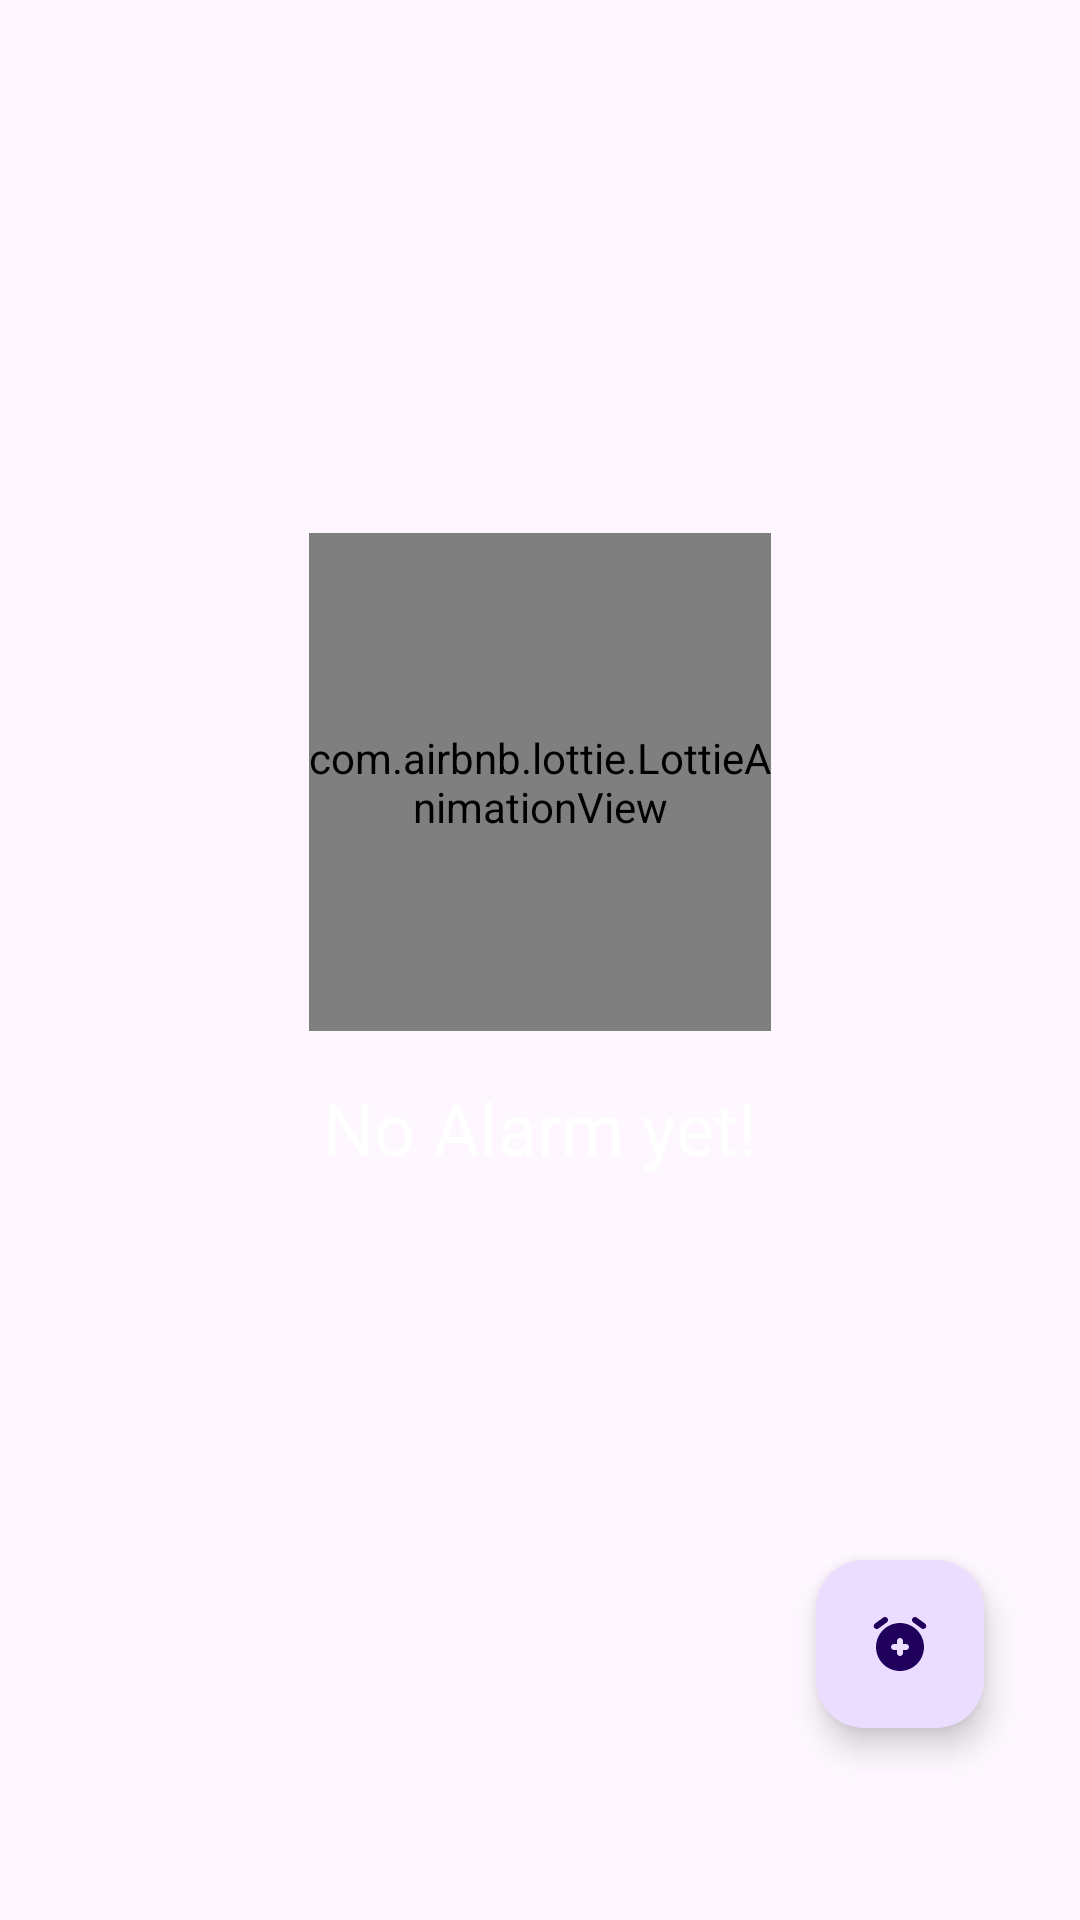

Icon bounding boxes for this 1080px x 1920px phone screenshot, format Rect(x1, y1, x2, y2):
add alarm: Rect(816, 1560, 984, 1728)
